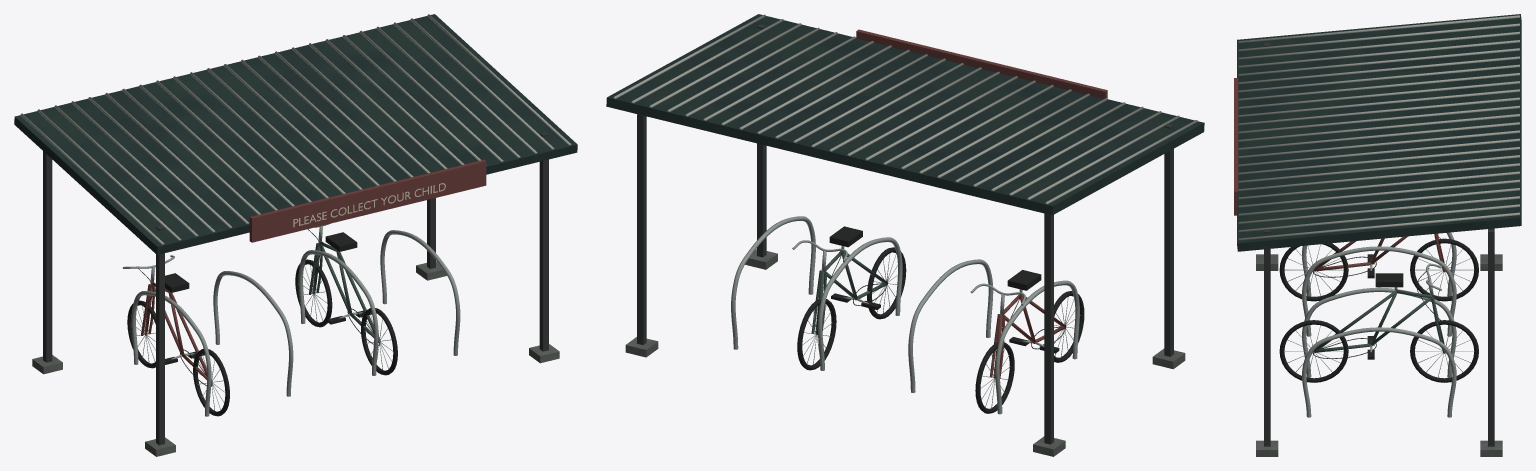
The model's file is school-bike-shelter.glb.
The picture shows the model from 3 angles, left to right: view 1: azimuth 30°, elevation 25°; view 2: azimuth 150°, elevation 25°; view 3: azimuth 270°, elevation 25°; orthographic projection. The views are drawn at different scales.
Visible parts, largest first — view 1: Cycle shelter corrugated roof, Shelter instruction plate, Cycle shelter steel post.001, Cycle shelter steel post.002, Cycle shelter steel post, Bicycle Sheffield stand.003, Bicycle Sheffield stand.001, Bicycle Sheffield stand.002, Bicycle Sheffield stand, Bicycle tyre, Bicycle tyre.002, Bicycle tyre.003 (+27 smaller); view 2: Cycle shelter corrugated roof, Shelter instruction plate, Cycle shelter steel post.001, Cycle shelter steel post.003, Cycle shelter steel post, Bicycle Sheffield stand.002, Bicycle Sheffield stand.001, Bicycle Sheffield stand.003, Bicycle Sheffield stand, Cycle shelter steel post.002, Bicycle tyre.003, Bicycle tyre.001 (+1 smaller); view 3: Cycle shelter corrugated roof, Cycle shelter steel post.003, Cycle shelter steel post.002, Bicycle Sheffield stand.003, Bicycle Sheffield stand.001, Bicycle Sheffield stand.002, Bicycle tyre.002, Bicycle tyre.003, Bicycle tyre.001, Roof corrugation.005, Roof corrugation.010, Roof corrugation.017 (+29 smaller).
Boxes of the visible parts, box(x1,y1,x2,y2) form: Cycle shelter corrugated roof: box(14, 14, 577, 254); Shelter instruction plate: box(249, 160, 486, 242); Cycle shelter steel post.001: box(43, 151, 52, 362); Cycle shelter steel post.002: box(539, 132, 548, 351); Cycle shelter steel post: box(156, 225, 164, 445); Bicycle Sheffield stand.003: box(380, 230, 460, 355); Bicycle Sheffield stand.001: box(213, 271, 293, 396); Bicycle Sheffield stand.002: box(298, 250, 378, 375); Bicycle Sheffield stand: box(131, 291, 211, 416); Bicycle tyre: box(193, 349, 229, 416); Bicycle tyre.002: box(361, 308, 397, 375); Bicycle tyre.003: box(295, 259, 332, 327); Cycle shelter corrugated roof: box(606, 14, 1204, 215); Shelter instruction plate: box(856, 29, 1107, 98); Cycle shelter steel post.001: box(1044, 213, 1053, 444); Cycle shelter steel post.003: box(637, 114, 646, 344); Cycle shelter steel post: box(1164, 123, 1173, 356); Bicycle Sheffield stand.002: box(817, 237, 902, 370); Bicycle Sheffield stand.001: box(908, 259, 993, 392); Bicycle Sheffield stand.003: box(731, 216, 815, 349); Bicycle Sheffield stand: box(995, 280, 1079, 414); Cycle shelter steel post.002: box(757, 24, 766, 257); Bicycle tyre.003: box(797, 299, 836, 370); Bicycle tyre.001: box(975, 342, 1014, 413); Cycle shelter corrugated roof: box(1237, 14, 1521, 251); Cycle shelter steel post.003: box(1488, 229, 1494, 446); Cycle shelter steel post.002: box(1264, 229, 1270, 446); Bicycle Sheffield stand.003: box(1302, 327, 1456, 417); Bicycle Sheffield stand.001: box(1302, 246, 1456, 336); Bicycle Sheffield stand.002: box(1302, 287, 1456, 377); Bicycle tyre.002: box(1279, 320, 1348, 382); Bicycle tyre.003: box(1410, 320, 1478, 382); Bicycle tyre.001: box(1410, 238, 1478, 301); Roof corrugation.005: box(1238, 56, 1519, 84); Roof corrugation.010: box(1238, 97, 1519, 125); Roof corrugation.017: box(1238, 155, 1519, 182).
Bounding box in the file's own units: 4.73 × 2.65 × 2.83.
Materials: 9 (2 with a texture image).
